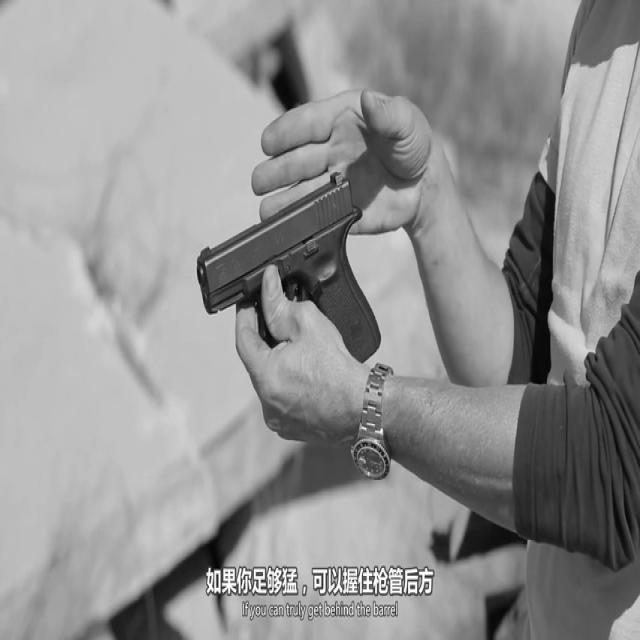Hand-Gun: (168, 93, 422, 456)
